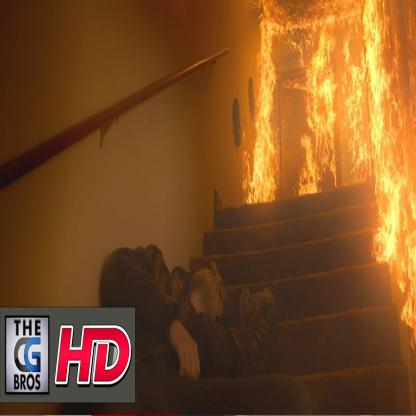fire: (251, 0, 416, 359)
